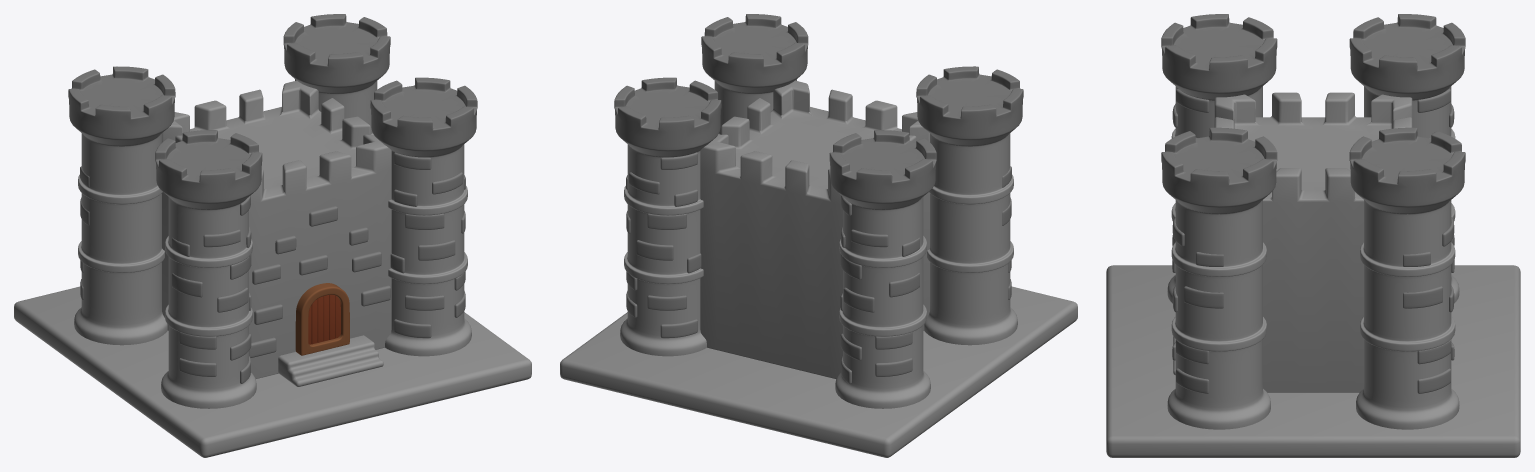
File: castle-3d-icon-759790186966.glb
3 renders of one model, left to right at view 1: azimuth 30°, elevation 25°; view 2: azimuth 150°, elevation 25°; view 3: azimuth 270°, elevation 25°, orthographic. The views are drawn at different scales.
Parts seen in each view (by area): view 1: Wall, Brick, Door Frame, Door; view 2: Wall, Brick; view 3: Wall, Brick.
Boxes of the visible parts, x1=… form: Wall: x1=14, y1=80, x2=531, y2=457; Brick: x1=68, y1=14, x2=477, y2=383; Door Frame: x1=295, y1=283, x2=349, y2=355; Door: x1=308, y1=294, x2=340, y2=344; Wall: x1=560, y1=80, x2=1077, y2=457; Brick: x1=614, y1=14, x2=1023, y2=383; Wall: x1=1106, y1=86, x2=1520, y2=457; Brick: x1=1161, y1=14, x2=1465, y2=393.
Size of the model in its own units: 1.95 by 1.44 by 1.95.
